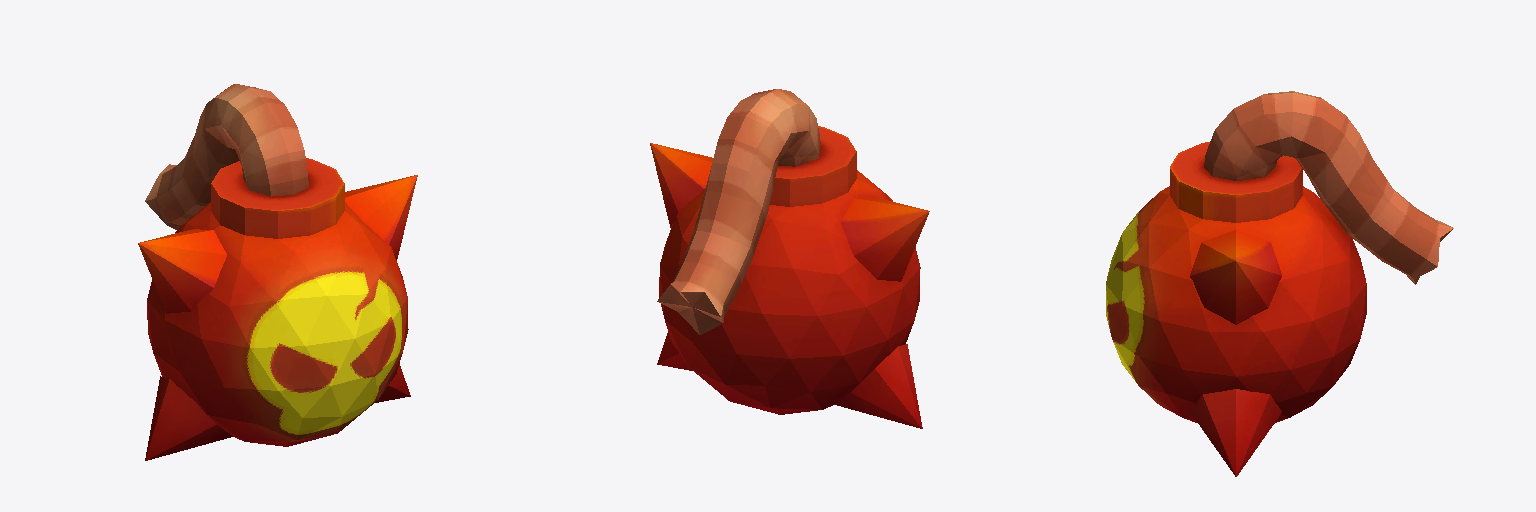
The picture shows the model from 3 angles: view 1: azimuth 30°, elevation 25°; view 2: azimuth 150°, elevation 25°; view 3: azimuth 270°, elevation 25°; orthographic projection.
Visible parts, largest first — view 1: pup_bomb_Scene; view 2: pup_bomb_Scene; view 3: pup_bomb_Scene.
Part boxes in pixels (x1,y1,x2,y2): pup_bomb_Scene: (138, 84, 417, 460); pup_bomb_Scene: (650, 89, 929, 428); pup_bomb_Scene: (1106, 91, 1453, 476).
Bounding box in the file's own units: 0.9467 × 1.06 × 1.02.
Materials: 1 (1 with a texture image).